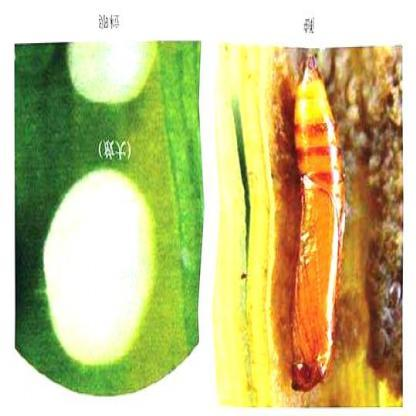whorl-maggot: (290, 49, 350, 398)
